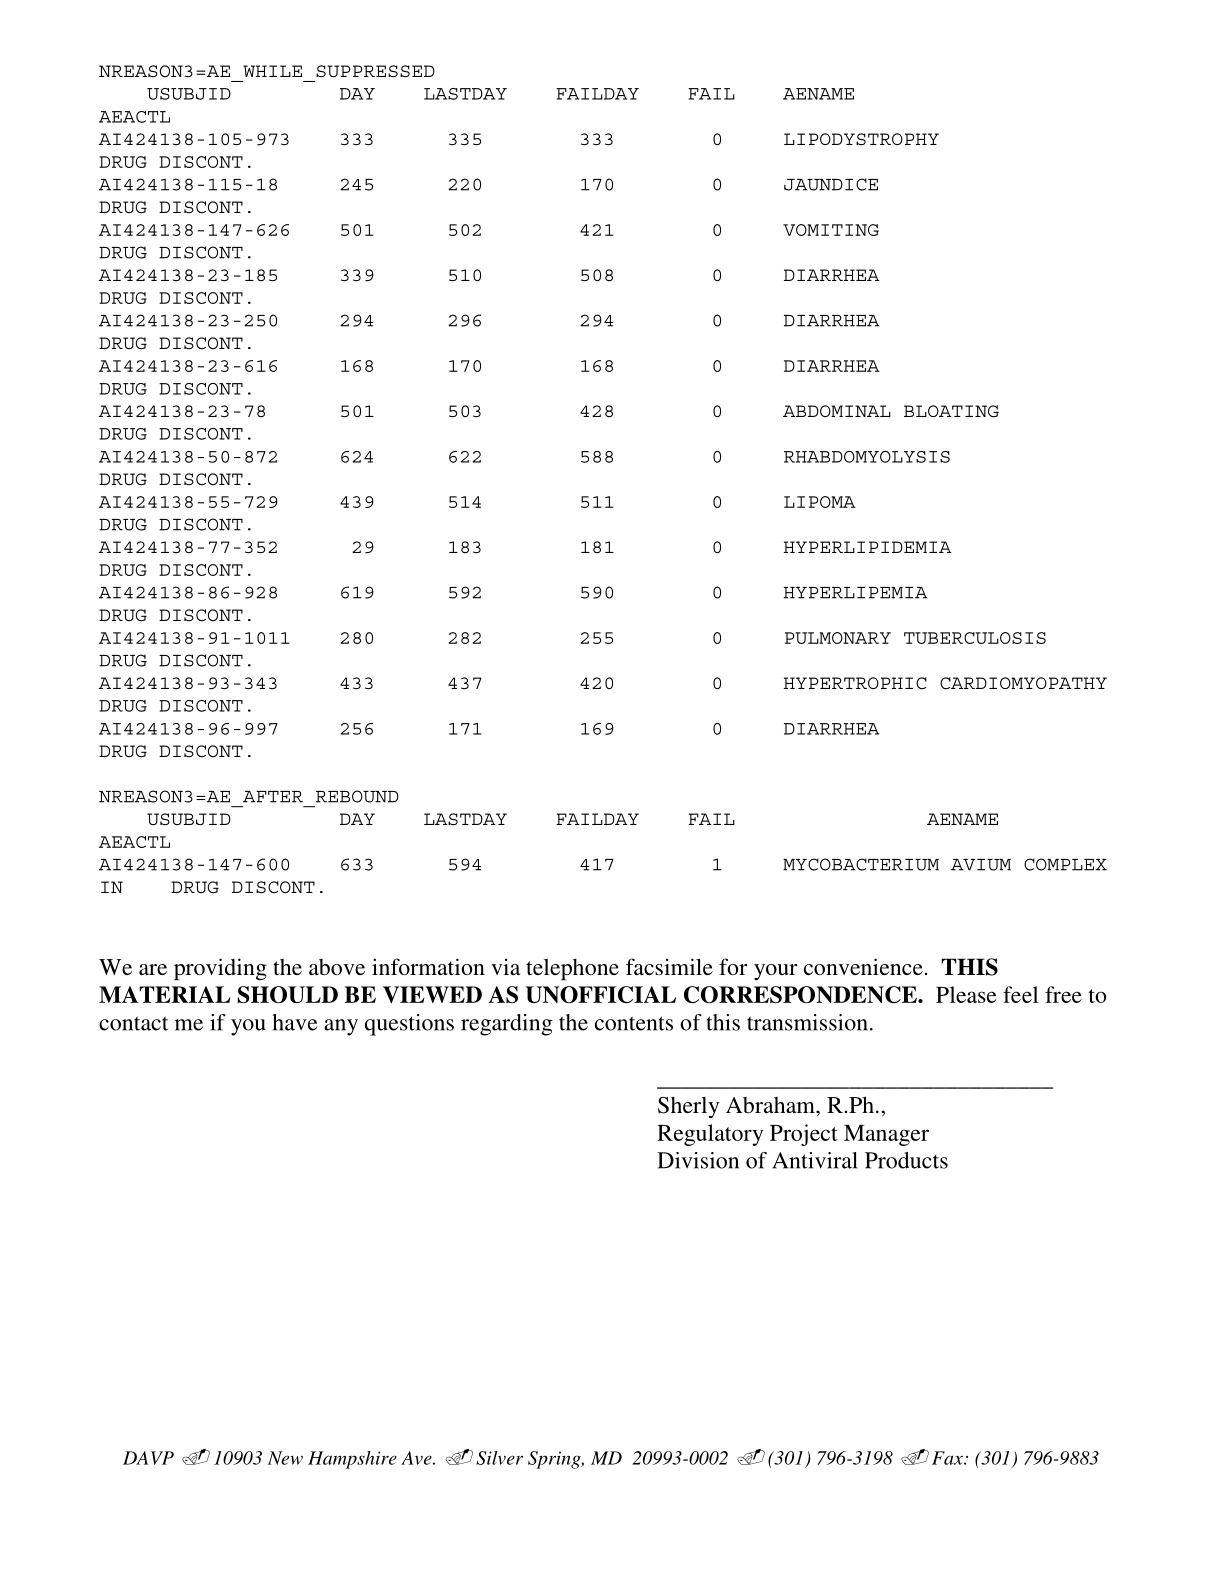nolines: (100, 82, 1106, 762), (95, 807, 1106, 896)
